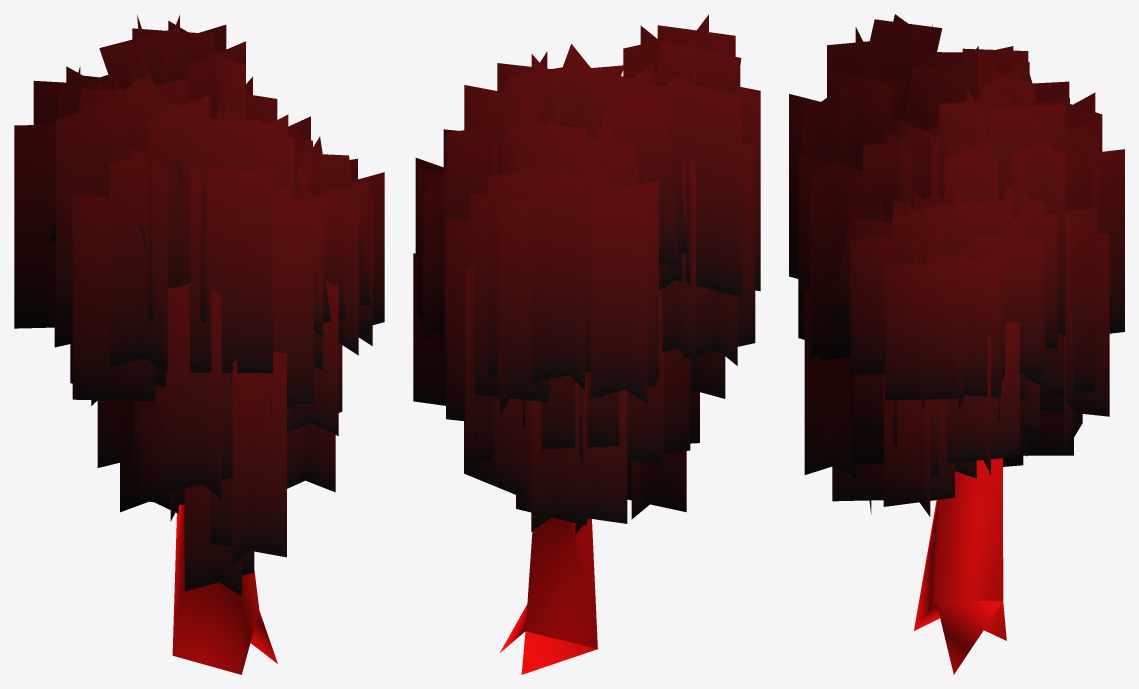
Rendered from SM_Tree_Willow_Medium_01_LOD01.fbx.
3 views of the same model, side by side, from view 1: azimuth 30°, elevation 25°; view 2: azimuth 150°, elevation 25°; view 3: azimuth 270°, elevation 25° (orthographic). The views are drawn at different scales.
Visible parts, largest first — view 1: SM_Tree_Willow_Medium_01_LOD01; view 2: SM_Tree_Willow_Medium_01_LOD01; view 3: SM_Tree_Willow_Medium_01_LOD01.
Boxes of the visible parts, box(x1,y1,x2,y2) form: SM_Tree_Willow_Medium_01_LOD01: box(14, 15, 384, 674); SM_Tree_Willow_Medium_01_LOD01: box(413, 14, 760, 674); SM_Tree_Willow_Medium_01_LOD01: box(789, 14, 1124, 674).
Size of the model in its own units: 336 by 644 by 336.
